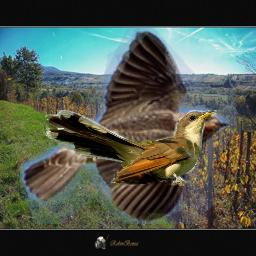Cuckoo: (45, 110, 217, 186)
Swallow: (20, 27, 236, 224)
